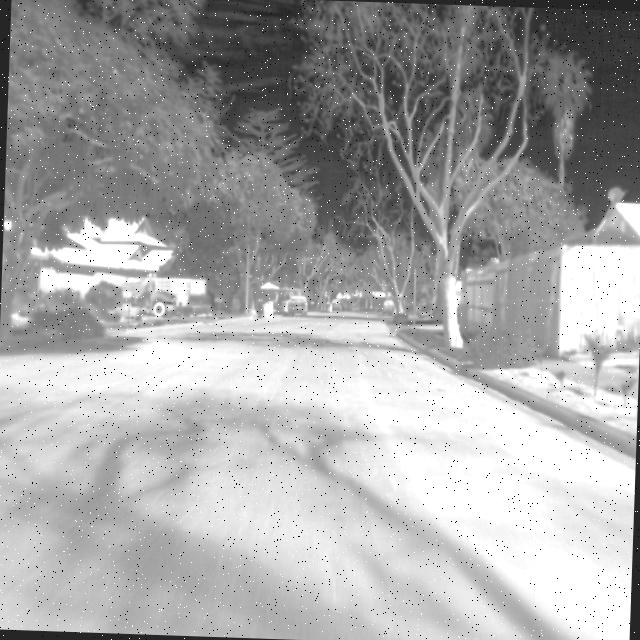Vehicle: (286, 294, 308, 317)
